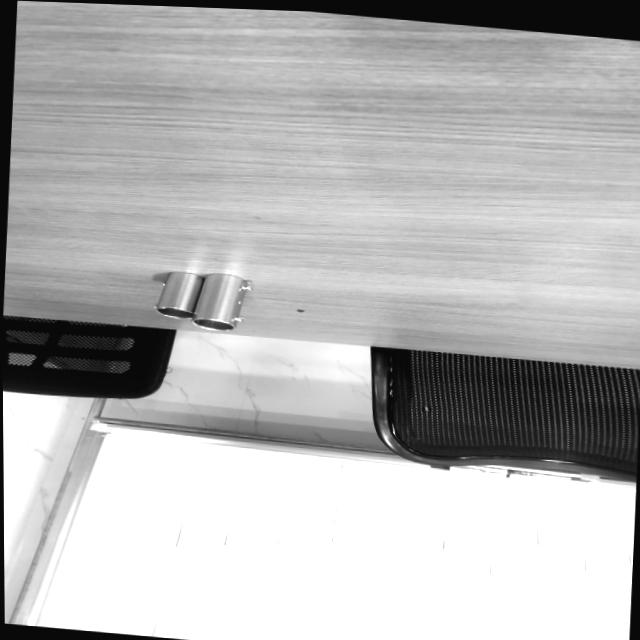Co_Lon: (189, 266, 251, 337)
Co_Nho: (153, 265, 204, 322)
